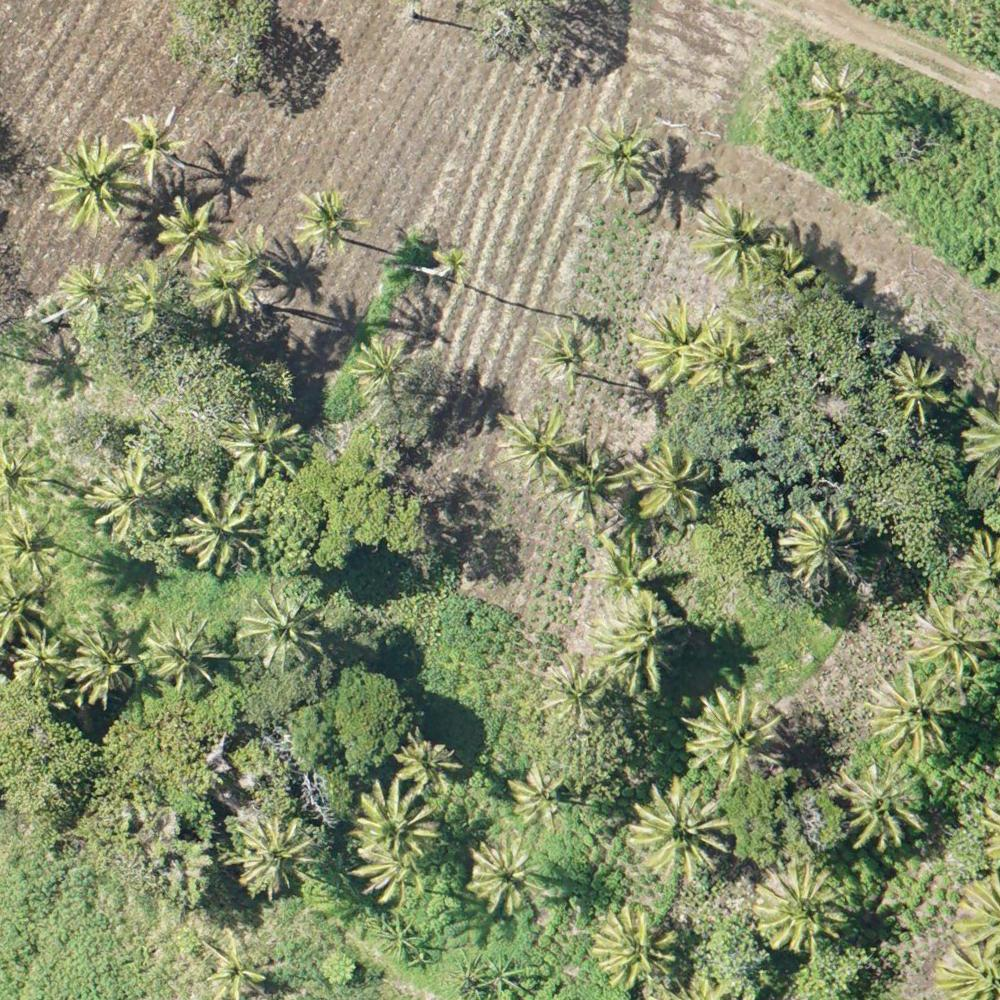Palm: (638, 783, 726, 882), (49, 139, 139, 231), (755, 864, 843, 956), (691, 689, 781, 777), (833, 763, 924, 850), (865, 667, 952, 758), (579, 112, 663, 206), (909, 599, 996, 685), (592, 909, 682, 992), (179, 488, 268, 569), (698, 201, 778, 290), (91, 455, 172, 541), (241, 593, 326, 671), (234, 813, 315, 894), (498, 405, 581, 484), (600, 607, 676, 693), (219, 408, 306, 483), (558, 443, 637, 525), (357, 783, 436, 863), (70, 621, 149, 700), (470, 835, 547, 912), (798, 60, 879, 133), (148, 616, 223, 693), (539, 657, 614, 731), (786, 505, 857, 583), (634, 305, 707, 378), (533, 315, 607, 386), (590, 531, 661, 604), (201, 933, 279, 999), (637, 445, 712, 513), (692, 323, 766, 391), (193, 247, 258, 323), (124, 108, 189, 182), (1, 510, 64, 581), (286, 185, 349, 255), (392, 734, 468, 791), (891, 354, 951, 422), (155, 197, 218, 261), (354, 338, 421, 398), (353, 847, 421, 901), (509, 765, 567, 828), (121, 264, 175, 329), (13, 636, 69, 692), (55, 265, 109, 317), (226, 230, 272, 275), (429, 245, 475, 286)
